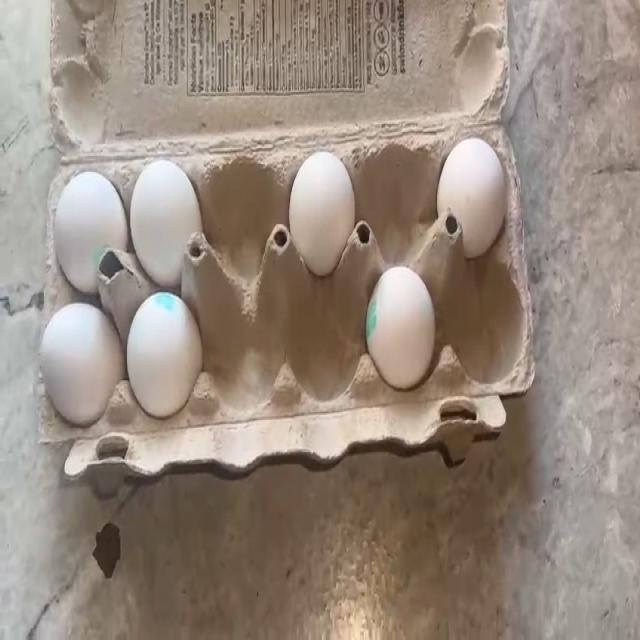Egg: (128, 289, 202, 405), (44, 306, 114, 421), (370, 251, 428, 381), (54, 169, 115, 284), (297, 152, 353, 266), (438, 140, 504, 234), (136, 166, 197, 264)
